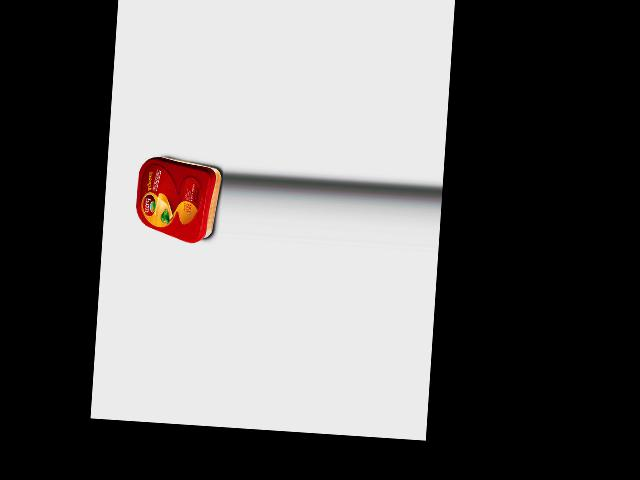cheese: (133, 155, 222, 244)
